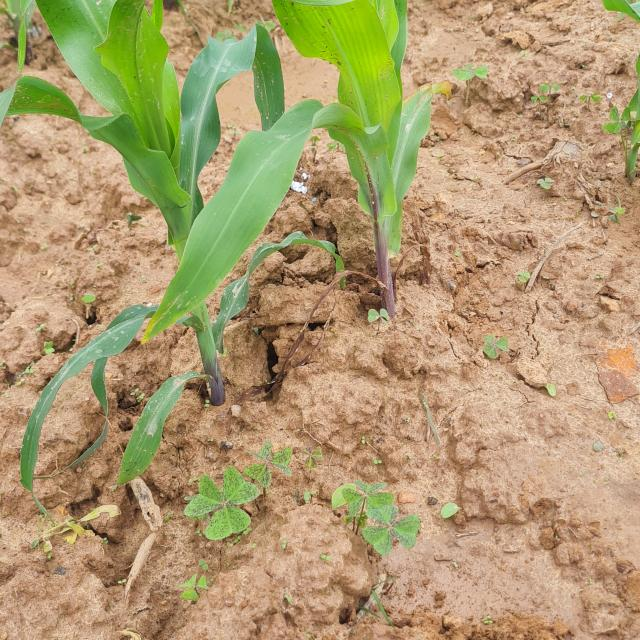maize: (0, 0, 533, 408)
weed: (210, 438, 440, 563), (616, 66, 640, 194)
